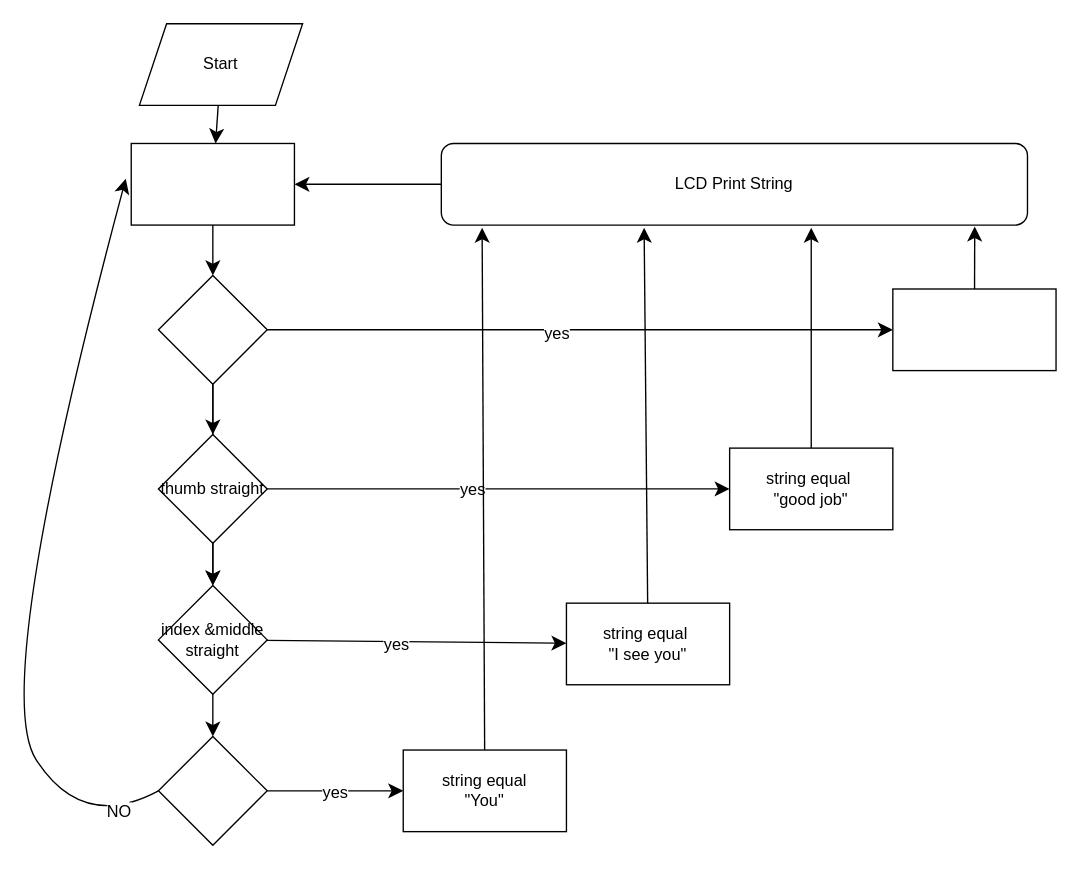
Image size: 1080x869. Some labels were removed from this diagram. The centre of each missing label's shape, as x and y in pixels:
index straight: (x=212, y=790)
Read from ADC Resistances: (x=212, y=183)
string equal "awesome": (x=973, y=329)
thumb & Index straight: (x=212, y=329)
